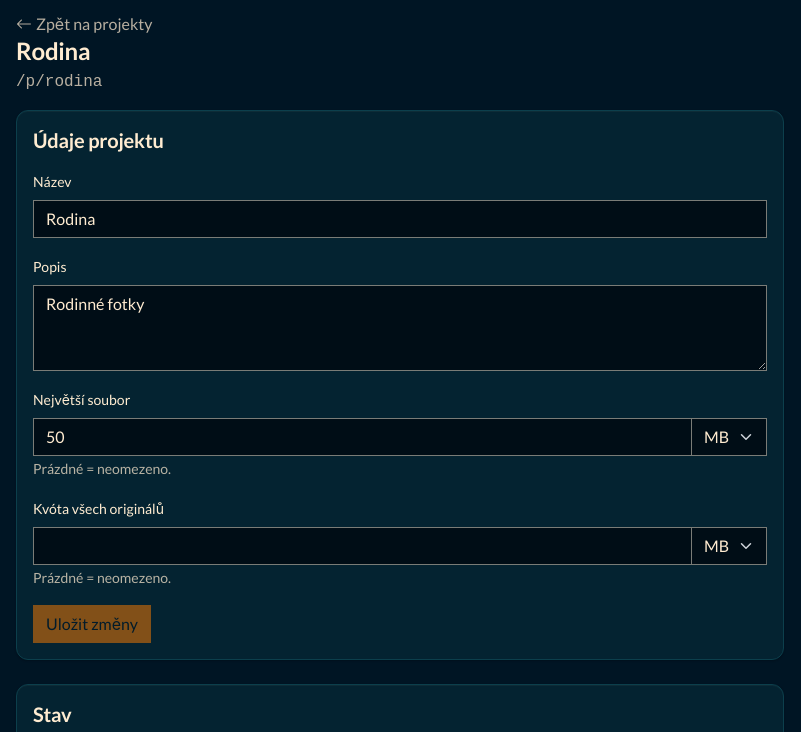
SystemProjectPage › saves only the fields that changed, a cleared limit as null
Expected: the button "Uložit změny" is disabled, [33,605,151,643]
Replace the text in the field labelled "Název" with "Rodina Novákových" at (400, 219), box [33,200,767,238]
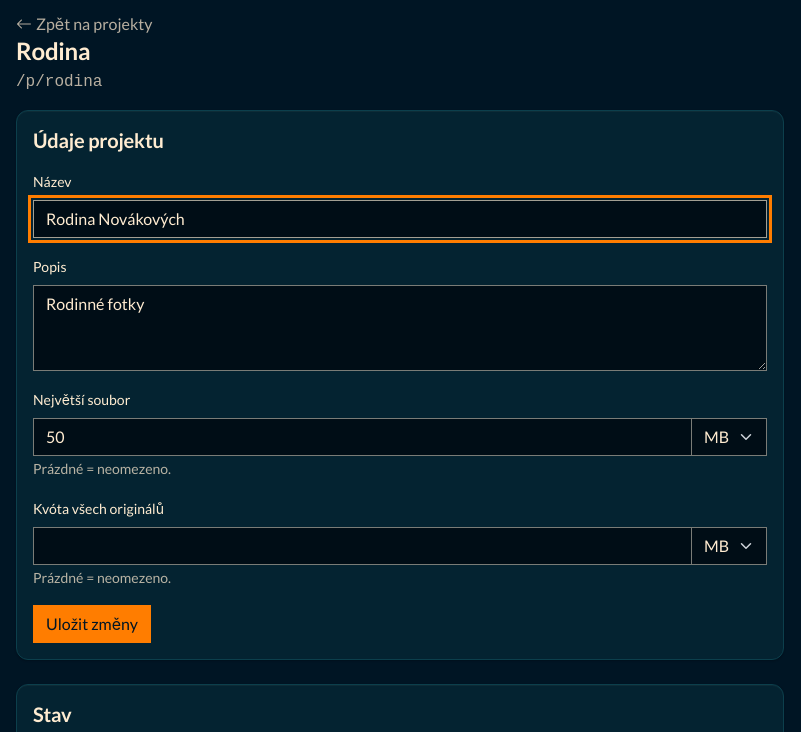
Clear the field labelled "Největší soubor" at (362, 437), box [33,418,692,456]
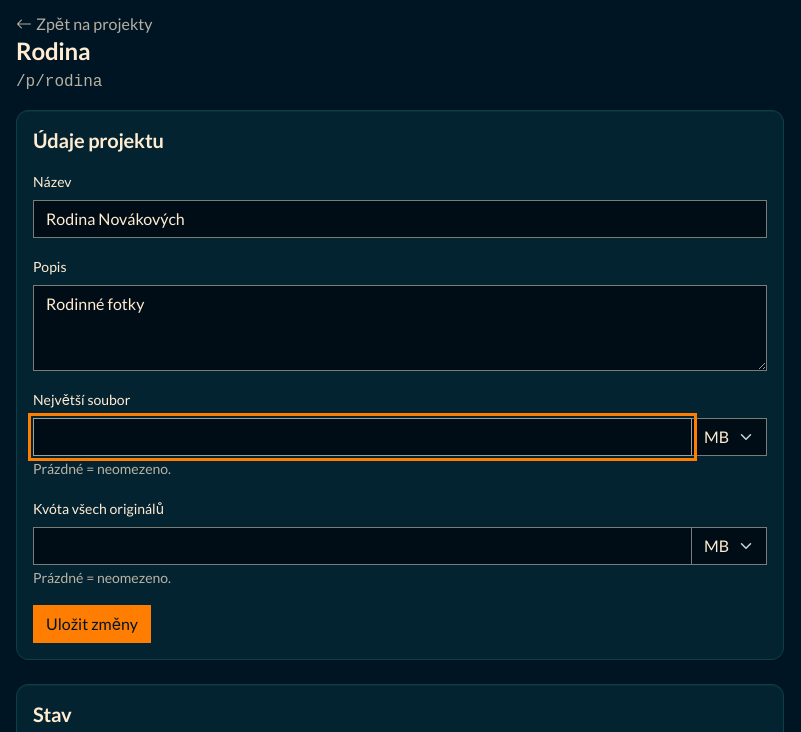
Click the button "Uložit změny" at (92, 624), box [33,605,151,643]
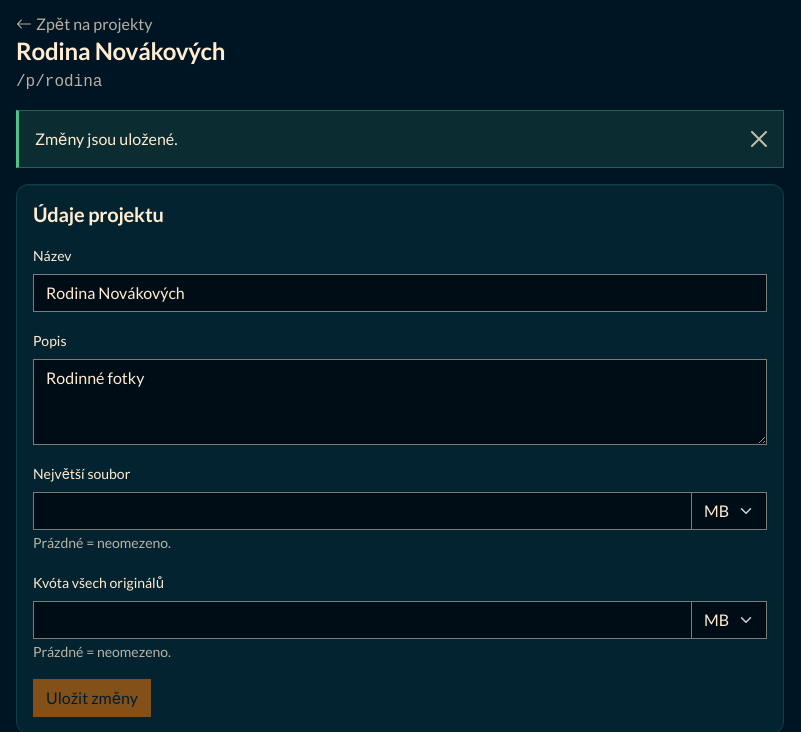
Result: the text "Změny jsou uložené." is shown at [16,110,784,168]
Result: the heading "Rodina Novákových" is shown at [16,36,225,65]
